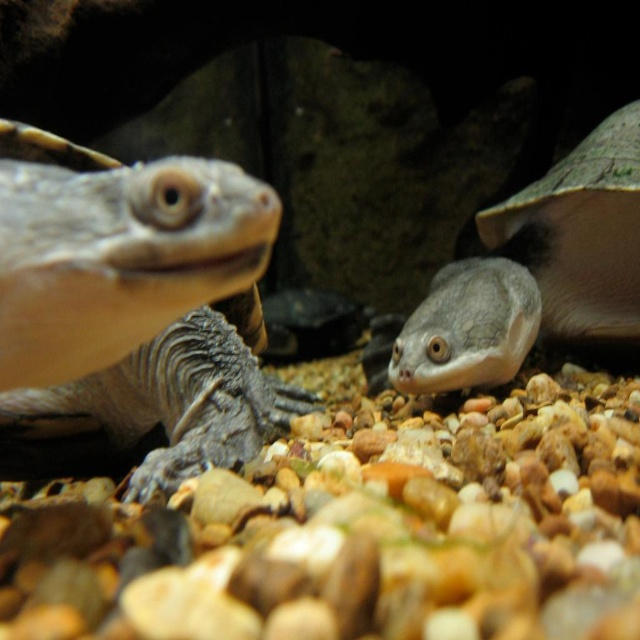Fish: (385, 258, 546, 412)
